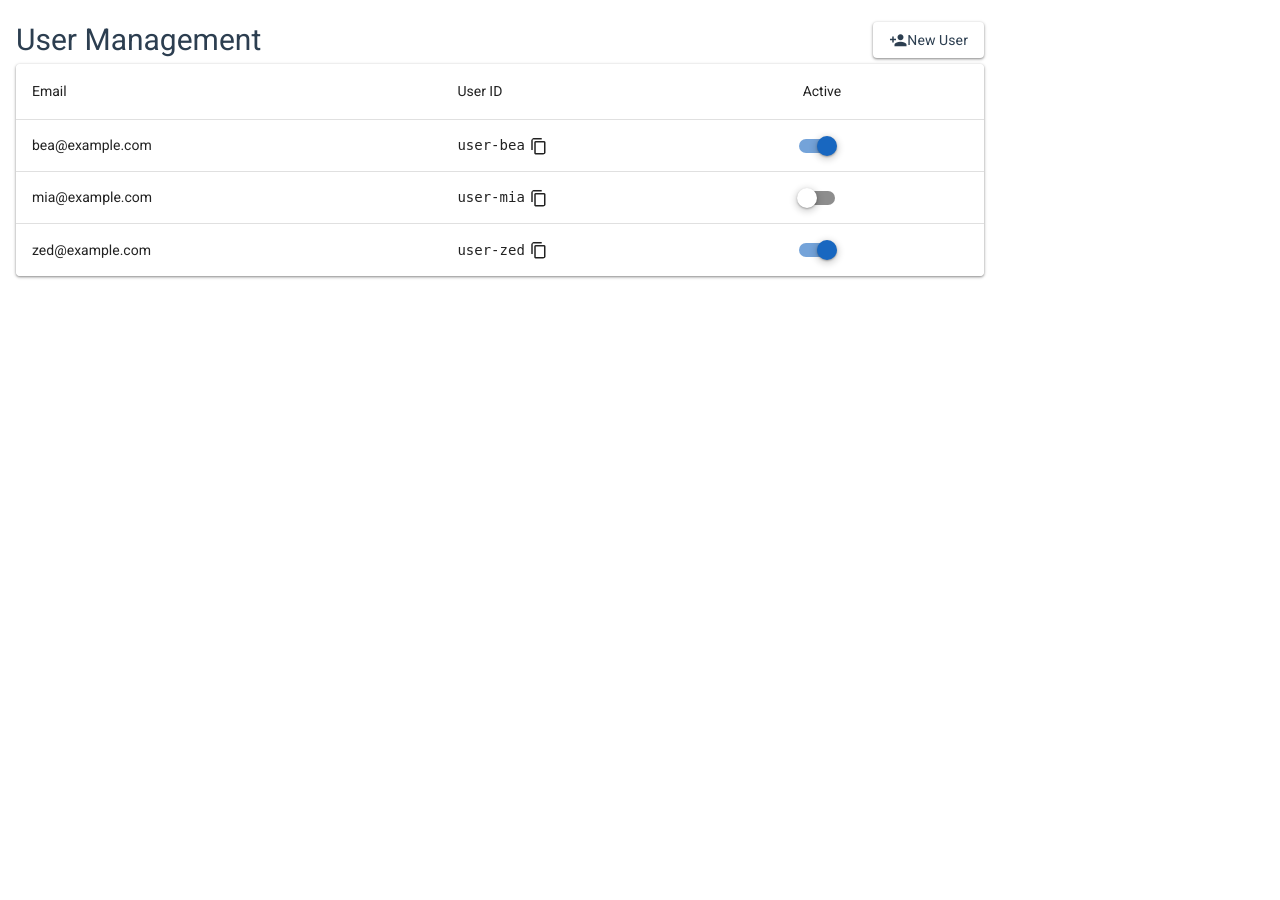
Scenario: UserManagementView › shows a duplicate-email error inside the dialog without closing it
Click the button with id "new-user-button".
click(929, 40)  # box x1=873 y1=22 x2=984 y2=58
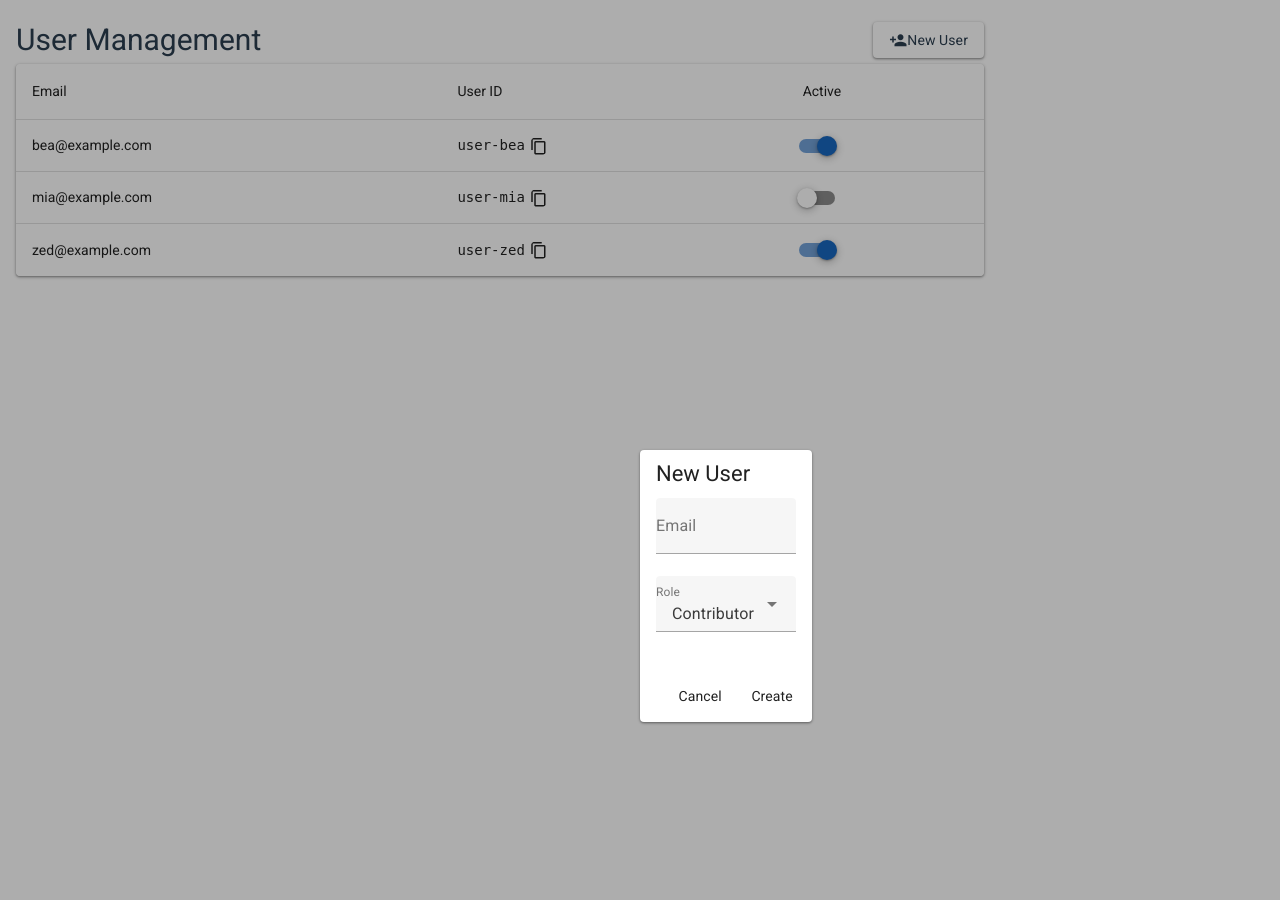
Type "duplicate@example.com" into the field with id "new-user-email".
click(726, 526); type("duplicate@example.com")  # box x1=656 y1=498 x2=796 y2=554
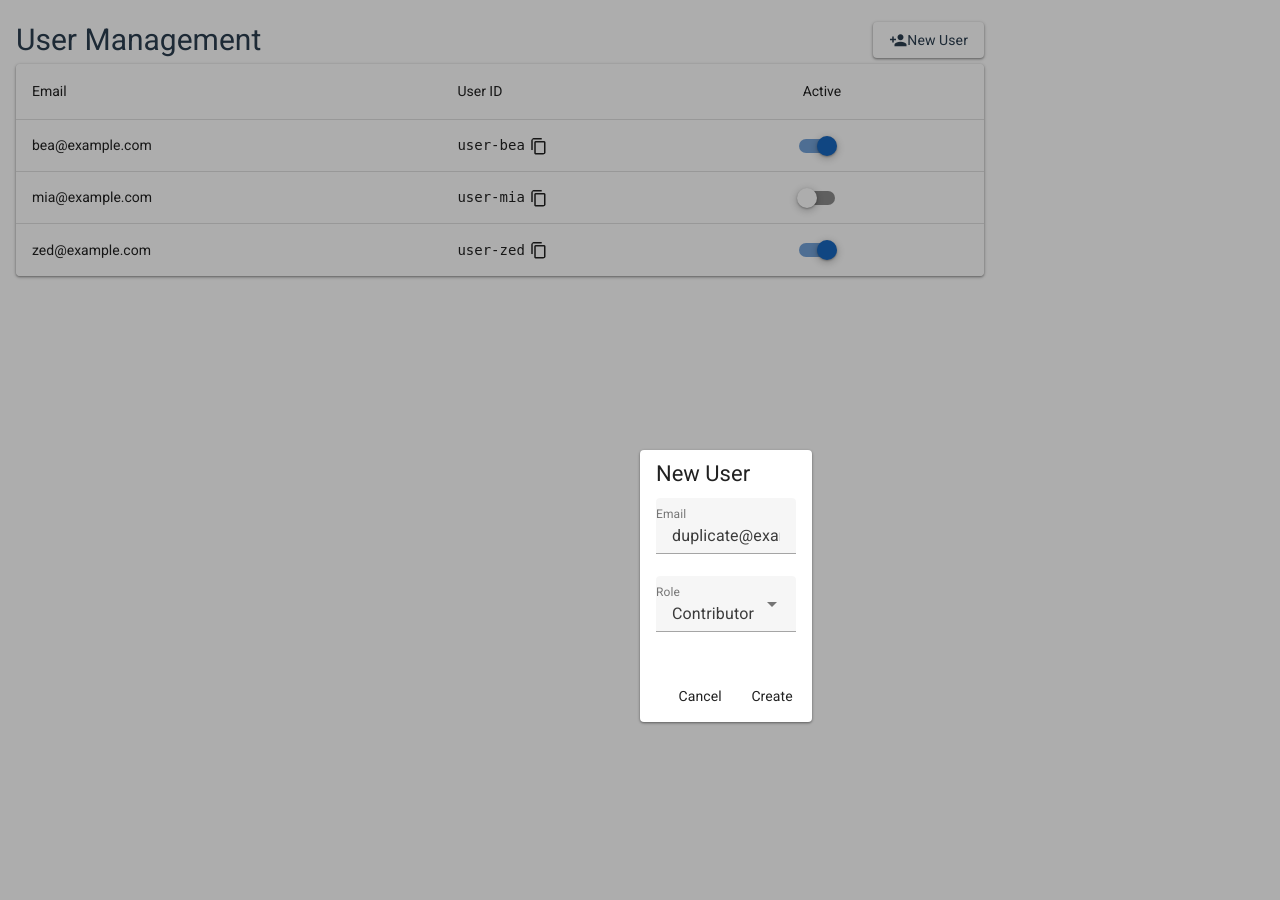
Click the button with id "confirm-create-user".
click(772, 696)  # box x1=740 y1=678 x2=804 y2=714
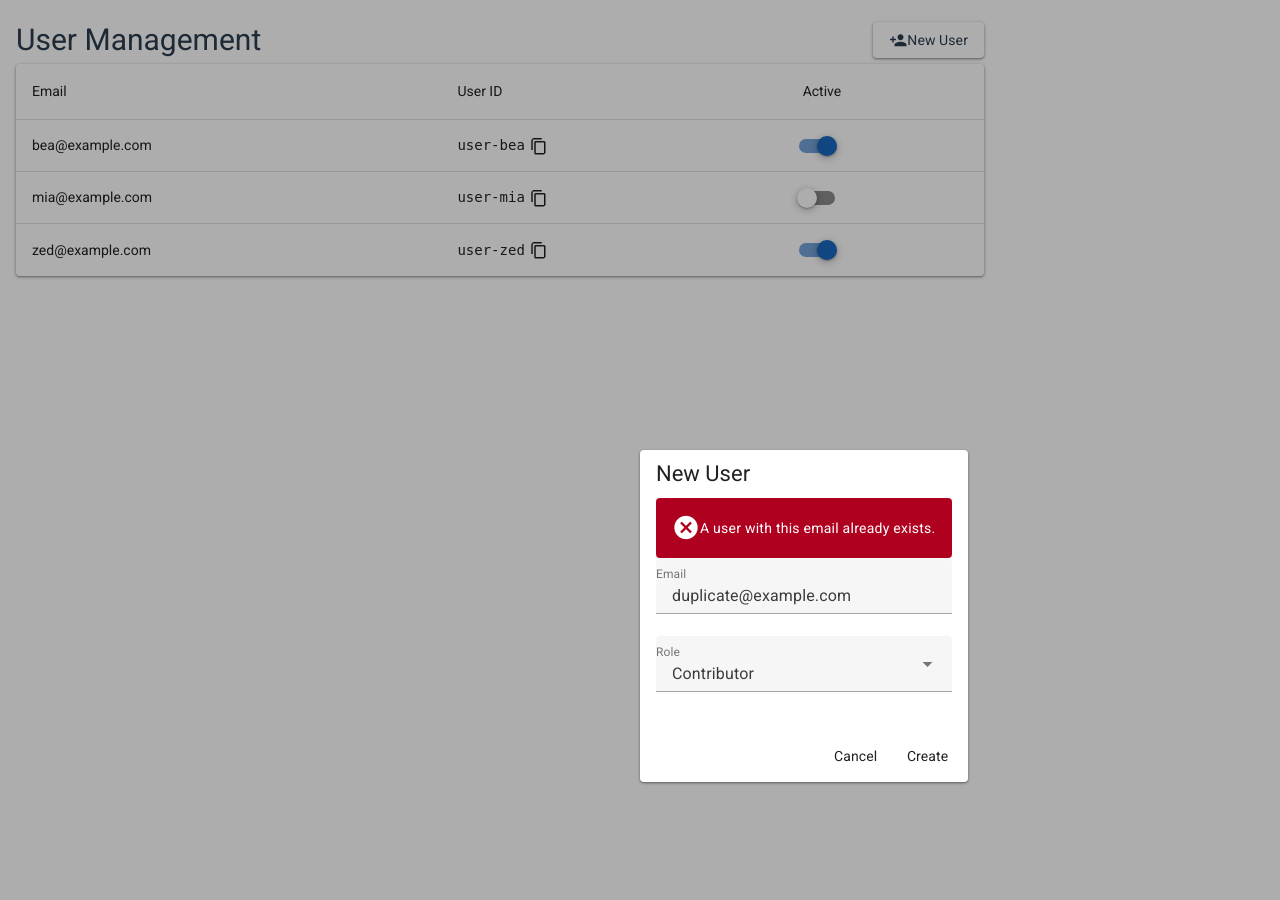
Check: the text "A user with this email already exists." is shown, box x1=700 y1=516 x2=936 y2=540
